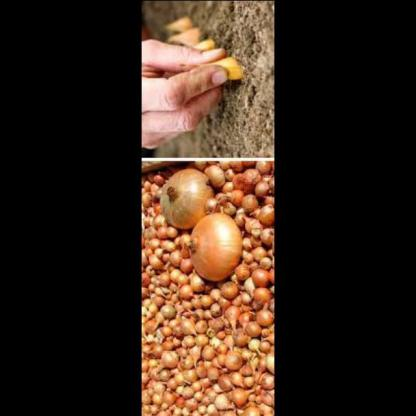onion: (141, 168, 274, 416), (182, 209, 245, 284), (149, 170, 212, 228)
